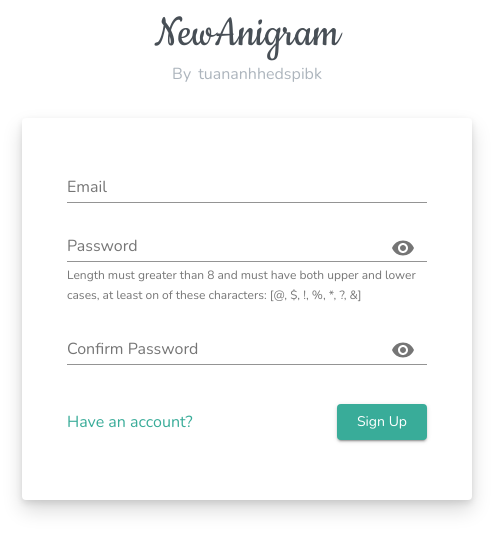
Test: (Func) Validate password (safe password)
The width and height of the screenshot is (495, 533).
In the 1st password field: (219, 248) top-left (67, 233), bottom-right (371, 262), type "Testtesttest123@"
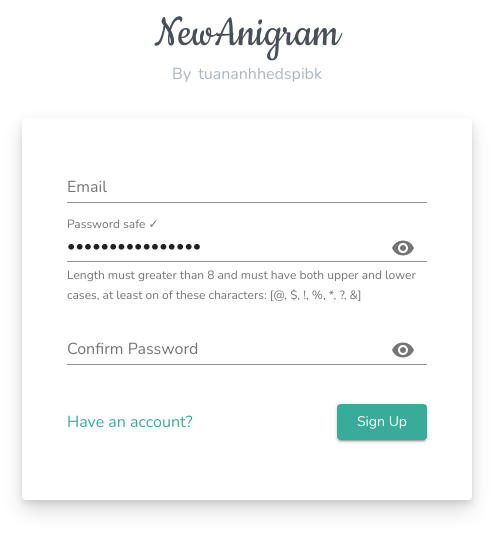
Now the label "Password safe ✓" is shown, box top-left (67, 218), bottom-right (159, 230)
